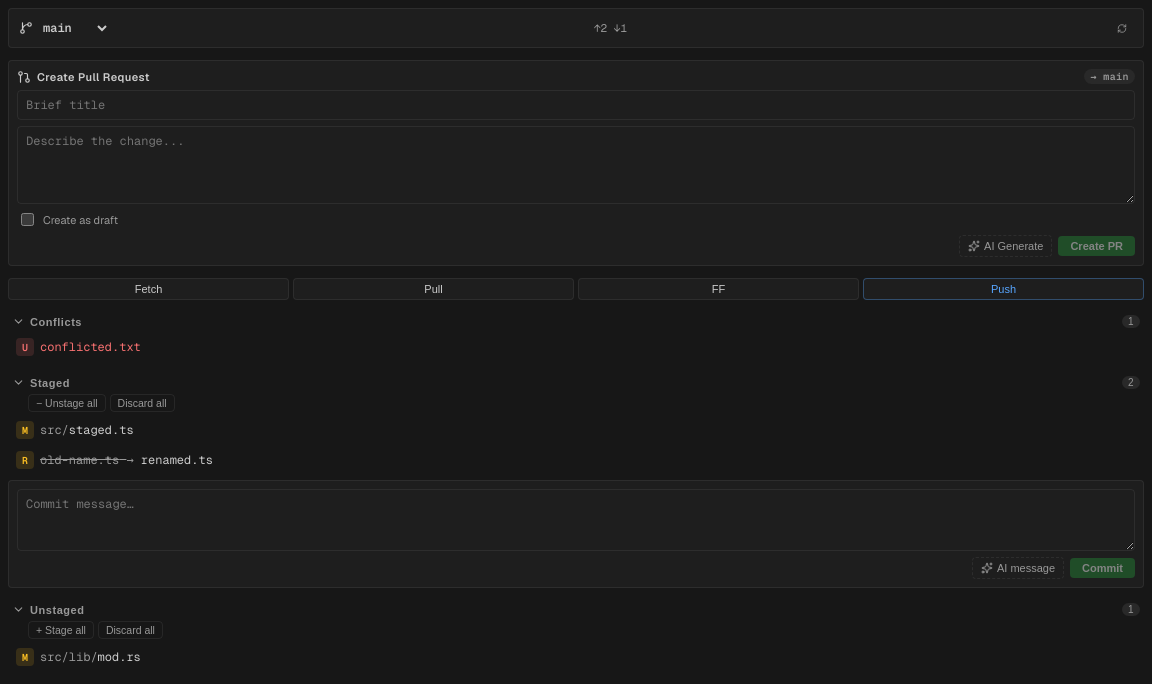
it: GitSourceControl › shows the conflict banner when pull fails with a conflict error
The image size is (1152, 684).
What coordinates should you click on to do the following:
click the button "Pull"
I would click on:
 (434, 289)
Its box is [293,278,574,300].
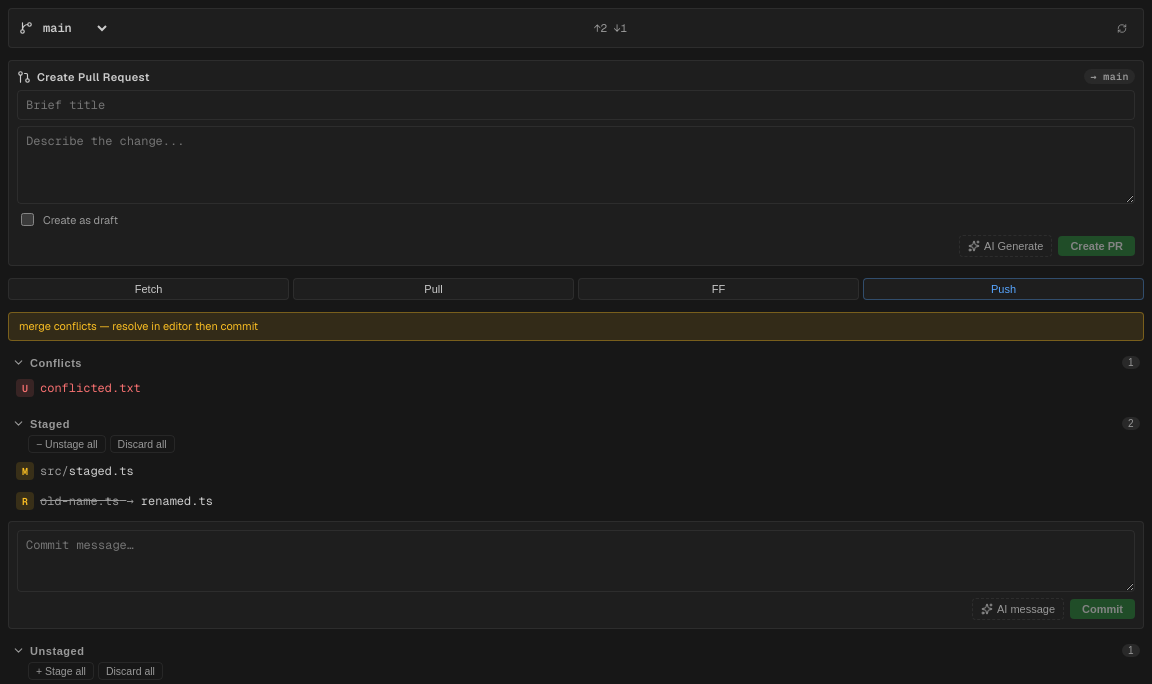
Now the text "merge conflicts — resolve in editor then commit" is shown, box [8,312,1144,341]
